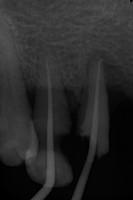Dental Caries: (85, 49, 128, 90)
